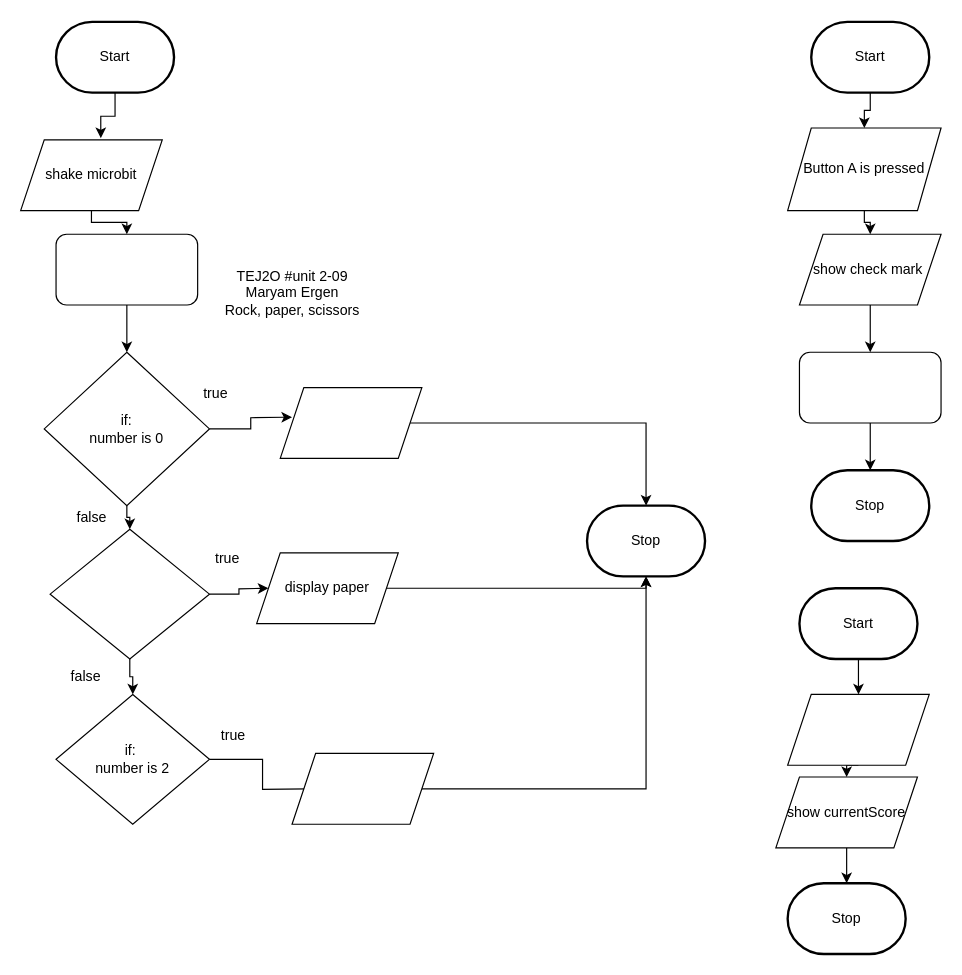
Some shapes in this 962 by 975 pixel diagram are drawn without their labels. The shapes that lost their labels are listed below. From the top down, each one's box as (x1, y1, x2, y2) in pixels, then its label:
(55, 233, 198, 305): check random number from 0-2
(798, 351, 941, 423): current score+1
(279, 386, 422, 458): display rock
(49, 528, 209, 659): if" number is 1
(786, 693, 929, 765): button B is pressed
(291, 752, 434, 824): display scissor
